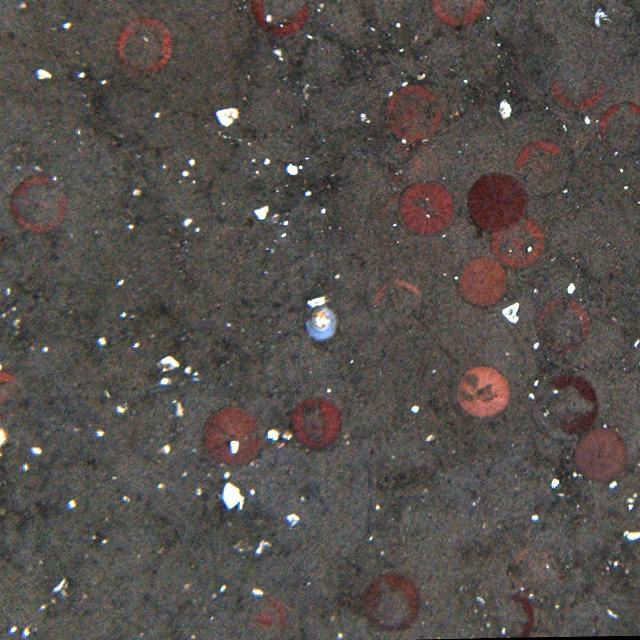whelk: (311, 307, 333, 330)
